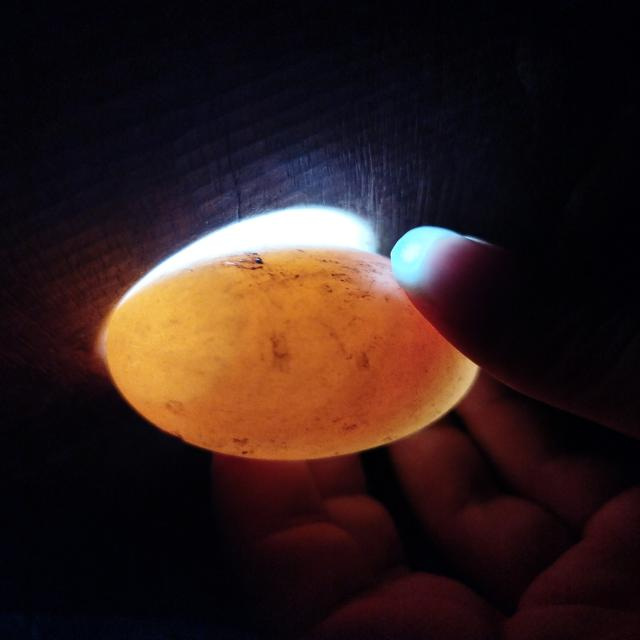Camara de Ar: (106, 277, 237, 400)
